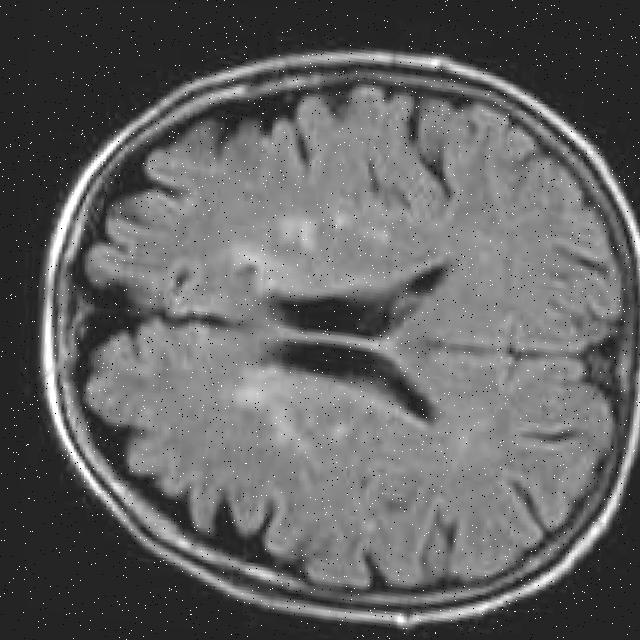NoTumor: (37, 38, 640, 633)
